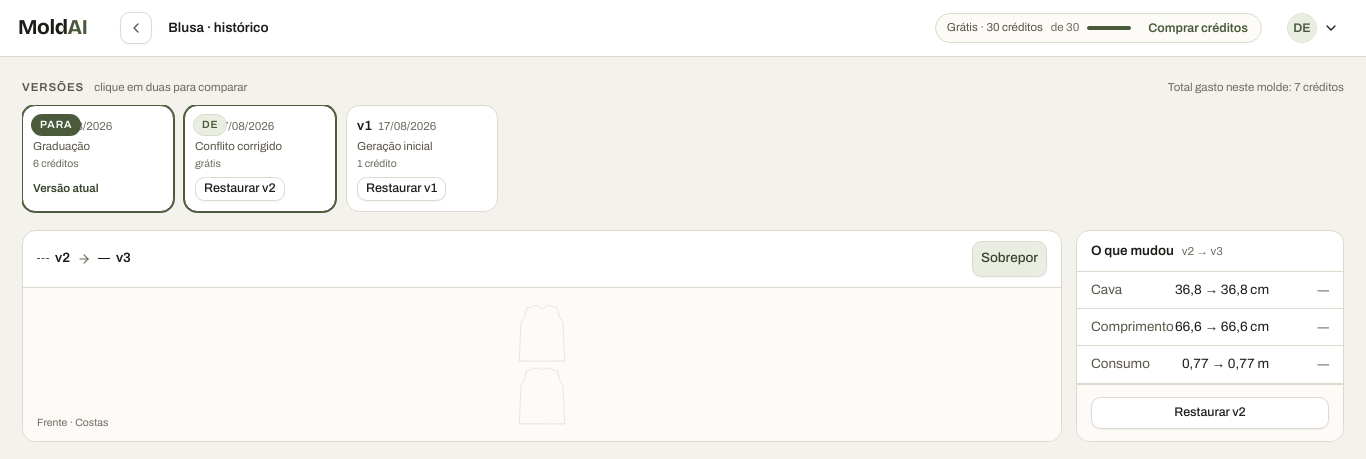
VersionsShell › clicking a version card updates the compare panel's legend
Expected: the text "v2 → v3" is shown, [1182,242,1223,260]
Click the button "v1 17/08/2026 Geração inicial 1 crédito".
click(422, 139)  # box [347,106,497,172]
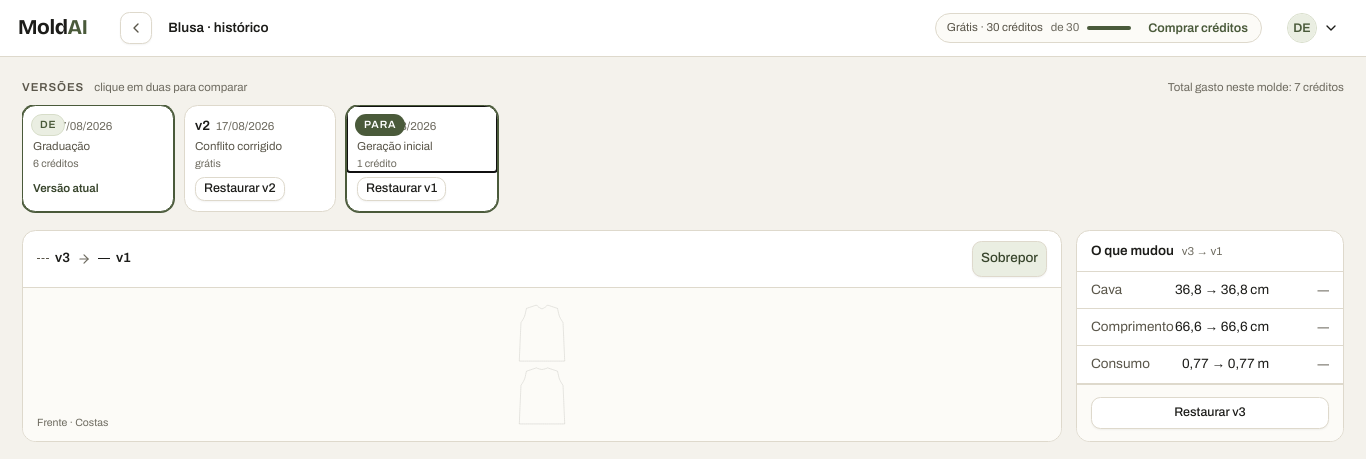
Result: the text "v3 → v1" is shown at [1182,242,1222,260]
